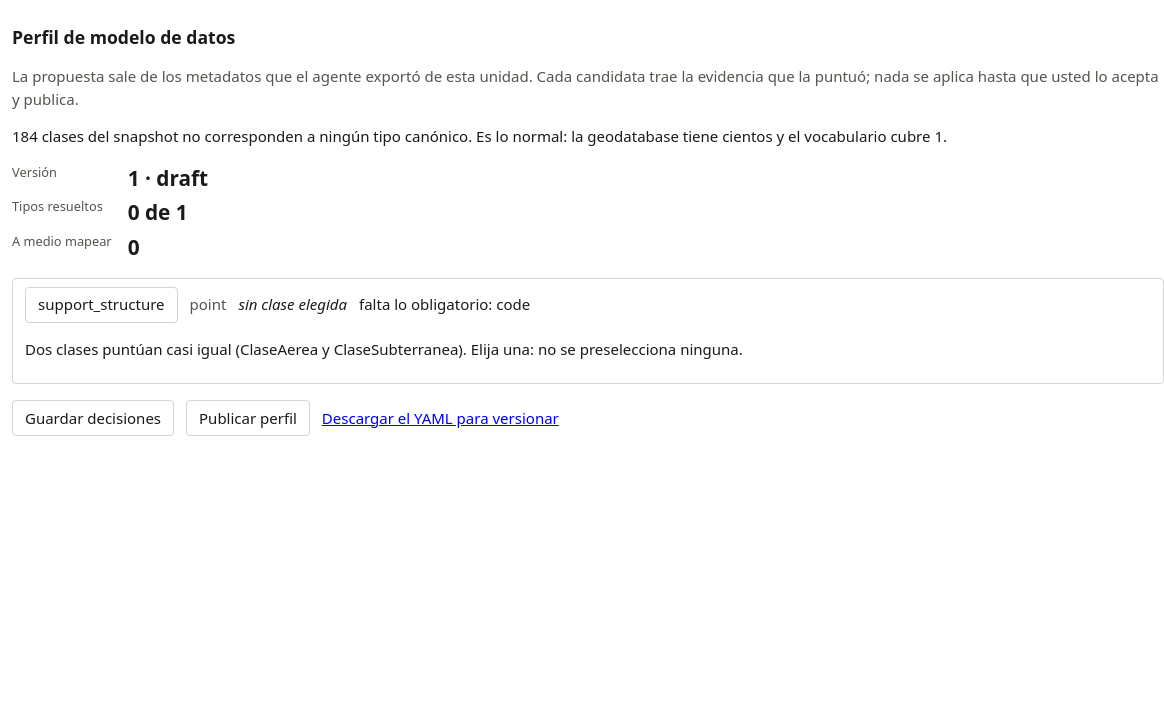
it: la ambigüedad › se anuncia y no se preselecciona ninguna de las dos
expect the text "puntúan casi igual" is shown: met, box [25,338,240,358]
expect the text "sin clase elegida" is shown: met, box [238,293,347,316]
Step 1. Click the button "support_structure" → (101, 305), box [25,287,178,322]
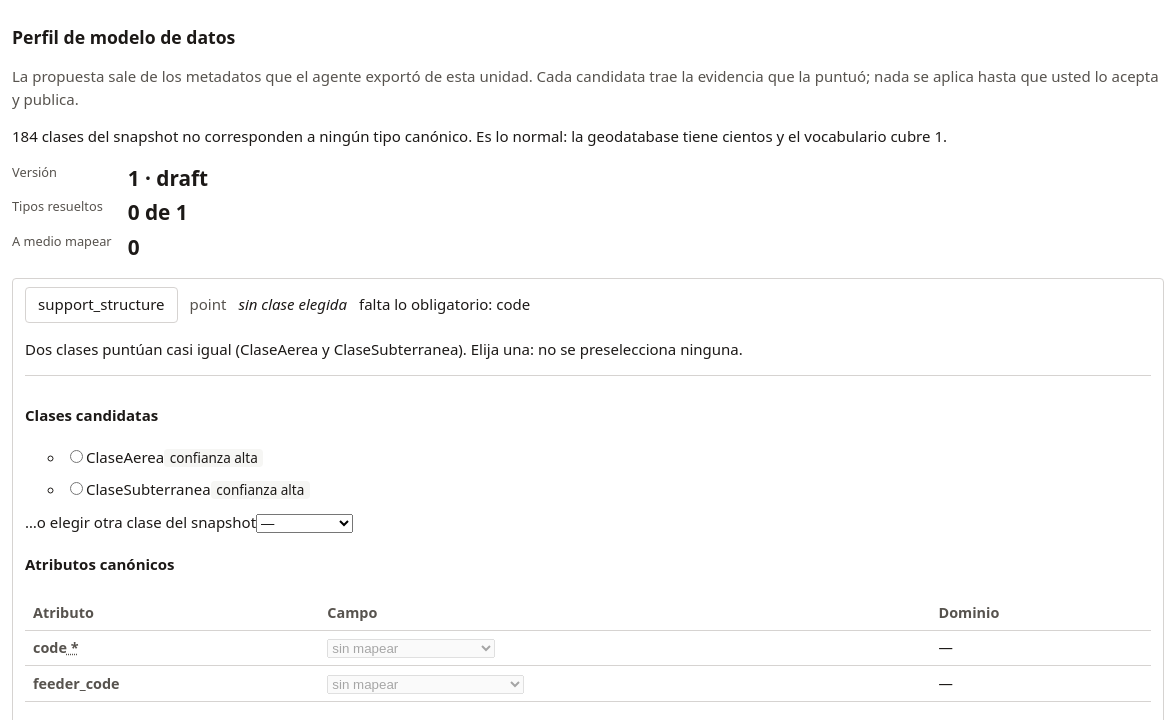
expect the number of radio buttons is 2: met, box [70,450,83,463]; [70,482,83,496]
